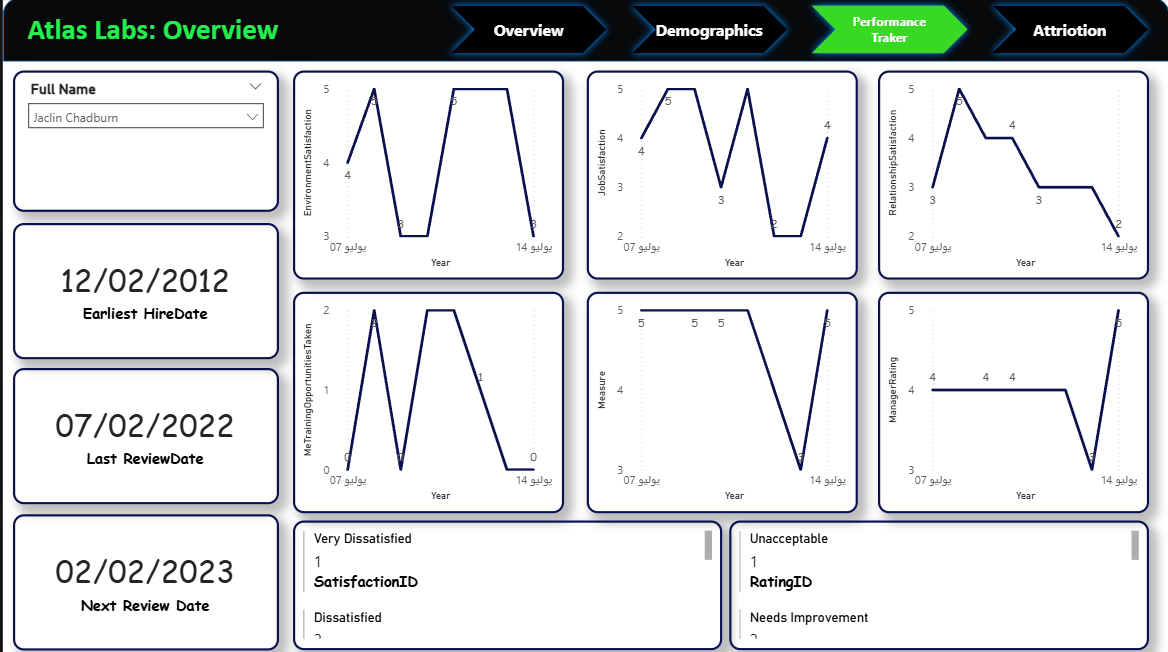

What the dashboard file says about the page in this screenshot:
{"tool":"powerbi","page":{"name":"Performance Traker","canvas":[1280,720],"ordinal":2},"visuals":[{"type":"shape","box":[0,0,1280.3,70],"z":0},{"type":"textbox","box":[22,9.6,343.1,53.5],"z":1000},{"type":"pageNavigator","box":[483,0,784.9,70],"z":2000},{"type":"slicer","fields":{"Values":["DimEmployee.FullName"]},"box":[10.4,80,291.9,155.6],"z":3000},{"type":"card","fields":{"Values":["Min(DimEmployee.HireDate)"]},"box":[10.4,247.5,291.9,149.7],"z":4000},{"type":"card","fields":{"Values":["_Measures.Last ReviewDate"]},"box":[10.4,406,291.9,149.7],"z":5000},{"type":"card","fields":{"Values":["_Measures.Next Review Date"]},"box":[10.4,566.1,291.9,149.7],"z":6000},{"type":"lineChart","fields":{"Y":["_Measures.EnvironmentSatisfaction"],"Category":["DimDate.Year.Variation.Date Hierarchy.Year","DimDate.Year.Variation.Date Hierarchy.Quarter","DimDate.Year.Variation.Date Hierarchy.Month","DimDate.Year.Variation.Date Hierarchy.Day"]},"box":[318.6,80,297.8,229.7],"z":7000},{"type":"lineChart","fields":{"Y":["_Measures.JobSatisfaction"],"Category":["DimDate.Year"]},"box":[640.2,80,297.8,229.7],"z":8000},{"type":"lineChart","fields":{"Y":["_Measures.RelationshipSatisfaction"],"Category":["DimDate.Year"]},"box":[960.2,80,297.8,229.7],"z":9000},{"type":"lineChart","fields":{"Y":["_Measures.ManagerRating"],"Category":["DimDate.Year"]},"box":[960.2,323,297.8,243],"z":10000},{"type":"lineChart","fields":{"Y":["_Measures.Measure"],"Category":["DimDate.Year"]},"box":[640.2,323,297.8,243],"z":11000},{"type":"lineChart","fields":{"Y":["_Measures.MeTrainingOpportunitiesTaken"],"Category":["DimDate.Year"]},"box":[318.6,323,297.8,243],"z":12000},{"type":"multiRowCard","fields":{"Values":["DimSatisfiedLevel.SatisfactionID","DimSatisfiedLevel.SatisfactionLevel"]},"box":[318.6,573.5,471.2,142.3],"z":13000},{"type":"multiRowCard","fields":{"Values":["DimRatingLevel.RatingID","DimRatingLevel.RatingLevel"]},"box":[797.2,573.5,460.8,142.3],"z":14000}]}

Visuals, with their boxes in screenshot pixels (x1, y1, x2, y2), scaled from the page's 1280x720 canvas onto the 1168x652 screenshot:
shape: left=0, top=0, right=1167, bottom=63
textbox: left=20, top=9, right=333, bottom=57
pageNavigator: left=441, top=0, right=1157, bottom=63
slicer - DimEmployee.FullName: left=9, top=72, right=276, bottom=213
card - Min(DimEmployee.HireDate): left=9, top=224, right=276, bottom=360
card - _Measures.Last ReviewDate: left=9, top=368, right=276, bottom=503
card - _Measures.Next Review Date: left=9, top=513, right=276, bottom=648
lineChart - _Measures.EnvironmentSatisfaction x DimDate.Year.Variation.Date Hierarchy.Year: left=291, top=72, right=562, bottom=280
lineChart - _Measures.JobSatisfaction x DimDate.Year: left=584, top=72, right=856, bottom=280
lineChart - _Measures.RelationshipSatisfaction x DimDate.Year: left=876, top=72, right=1148, bottom=280
lineChart - _Measures.ManagerRating x DimDate.Year: left=876, top=292, right=1148, bottom=513
lineChart - _Measures.Measure x DimDate.Year: left=584, top=292, right=856, bottom=513
lineChart - _Measures.MeTrainingOpportunitiesTaken x DimDate.Year: left=291, top=292, right=562, bottom=513
multiRowCard - DimSatisfiedLevel.SatisfactionID x DimSatisfiedLevel.SatisfactionLevel: left=291, top=519, right=721, bottom=648
multiRowCard - DimRatingLevel.RatingID x DimRatingLevel.RatingLevel: left=727, top=519, right=1148, bottom=648
